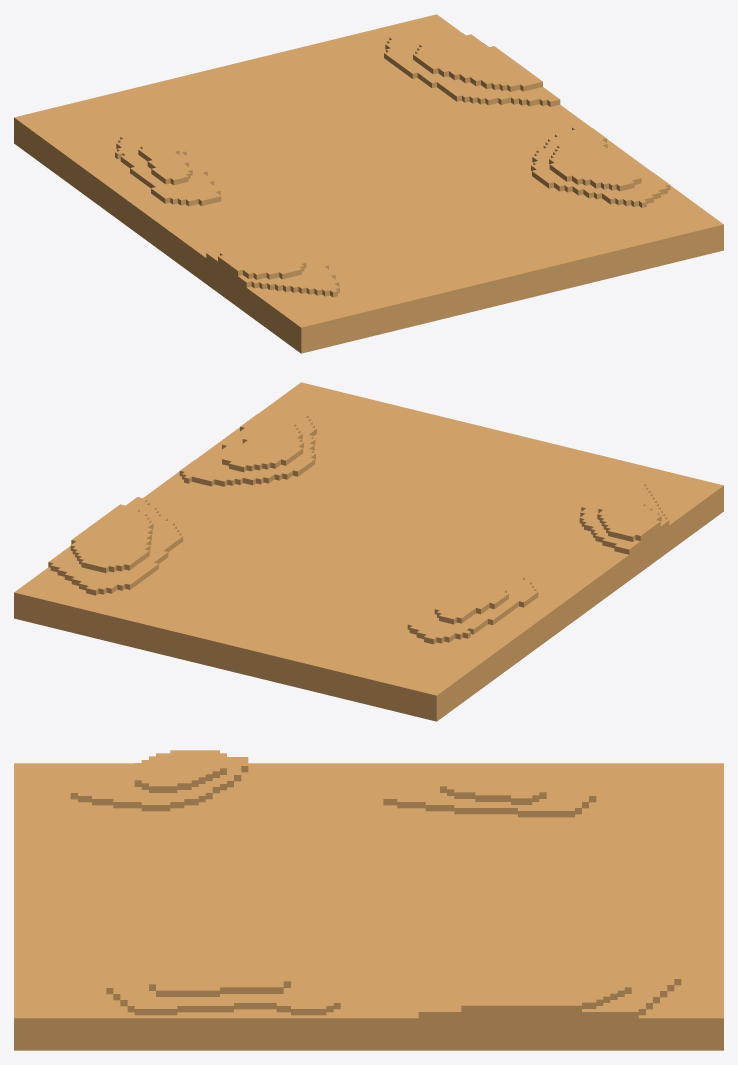
The model's file is map08.obj.
3 views of the same model, one above another, from view 1: azimuth 30°, elevation 25°; view 2: azimuth 150°, elevation 25°; view 3: azimuth 270°, elevation 25° (orthographic). The views are drawn at different scales.
Size of the model in its own units: 8.5 by 0.7 by 10.
1 material, 1 textured.
